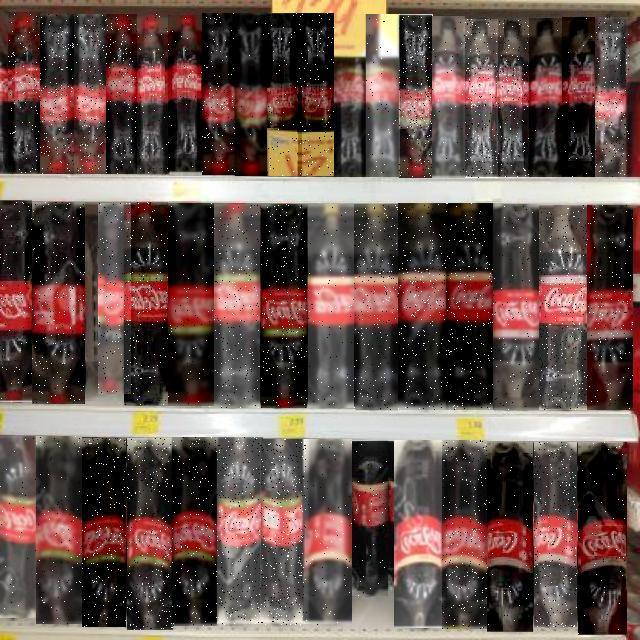Drinks: (32, 202, 85, 404), (398, 204, 448, 412), (446, 204, 494, 412), (539, 205, 587, 411), (493, 204, 539, 410), (578, 442, 627, 635), (587, 205, 633, 410), (169, 204, 215, 408), (215, 204, 261, 408), (261, 204, 307, 408), (308, 204, 354, 408), (394, 441, 443, 629), (354, 204, 398, 410), (124, 202, 168, 406), (127, 438, 173, 630), (487, 442, 533, 632), (173, 437, 219, 626), (36, 436, 82, 624), (217, 438, 263, 626), (262, 440, 308, 626), (306, 440, 352, 626), (442, 440, 487, 629), (83, 438, 127, 627), (534, 442, 577, 627), (0, 436, 37, 618), (0, 200, 32, 402), (98, 203, 131, 394), (352, 441, 388, 597), (399, 14, 433, 178), (268, 13, 302, 176), (301, 13, 335, 176), (334, 14, 368, 177), (366, 14, 400, 177), (202, 13, 236, 175), (562, 17, 596, 177), (596, 17, 630, 177), (40, 14, 74, 174), (138, 15, 172, 175), (170, 16, 204, 176), (464, 19, 498, 178), (235, 13, 268, 176), (8, 12, 41, 174), (432, 16, 465, 178), (106, 14, 139, 174), (496, 18, 529, 177), (529, 18, 562, 177), (74, 14, 106, 174)
